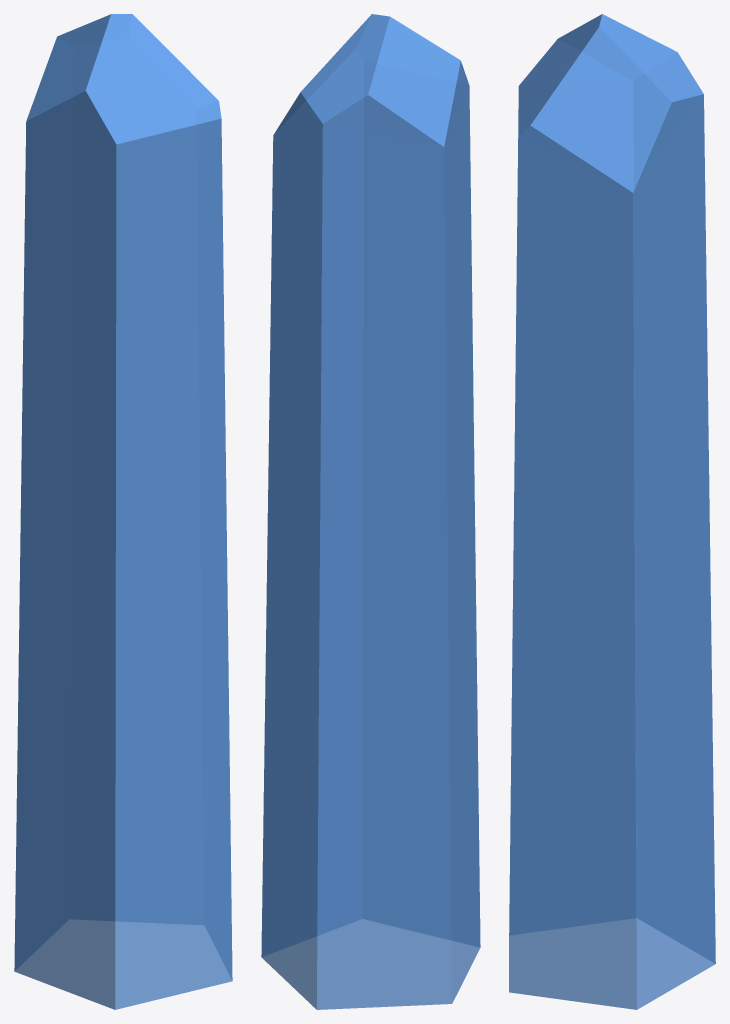
Rendered from Crystal_s_05.fbx.
3 renders of one model, left to right at view 1: azimuth 30°, elevation 25°; view 2: azimuth 150°, elevation 25°; view 3: azimuth 270°, elevation 25°, orthographic.
Parts seen in each view (by area): view 1: Crystal_s_05; view 2: Crystal_s_05; view 3: Crystal_s_05.
Part boxes in pixels (x1,y1,x2,y2): Crystal_s_05: (14,14,232,1009); Crystal_s_05: (261,14,480,1009); Crystal_s_05: (509,14,715,1009).
Size of the model in its own units: 18.19 by 87.03 by 17.3.
